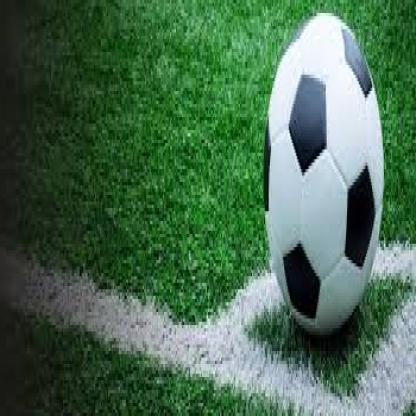ball: (262, 7, 386, 342)
